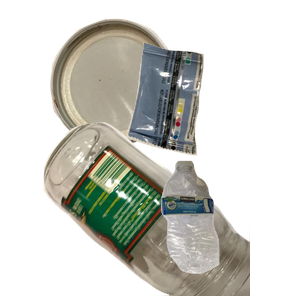glass: (41, 120, 281, 300)
metal: (47, 16, 214, 157)
plastic: (159, 158, 300, 300)
trash: (124, 40, 300, 188)
